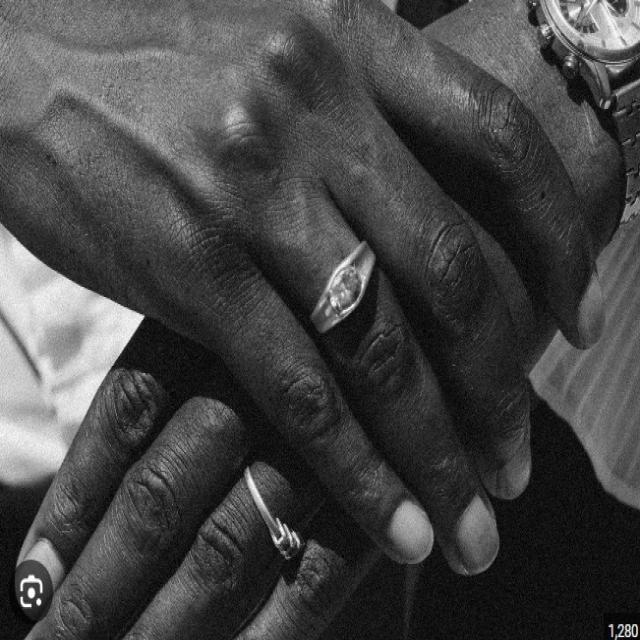Watch: (521, 0, 640, 211)
